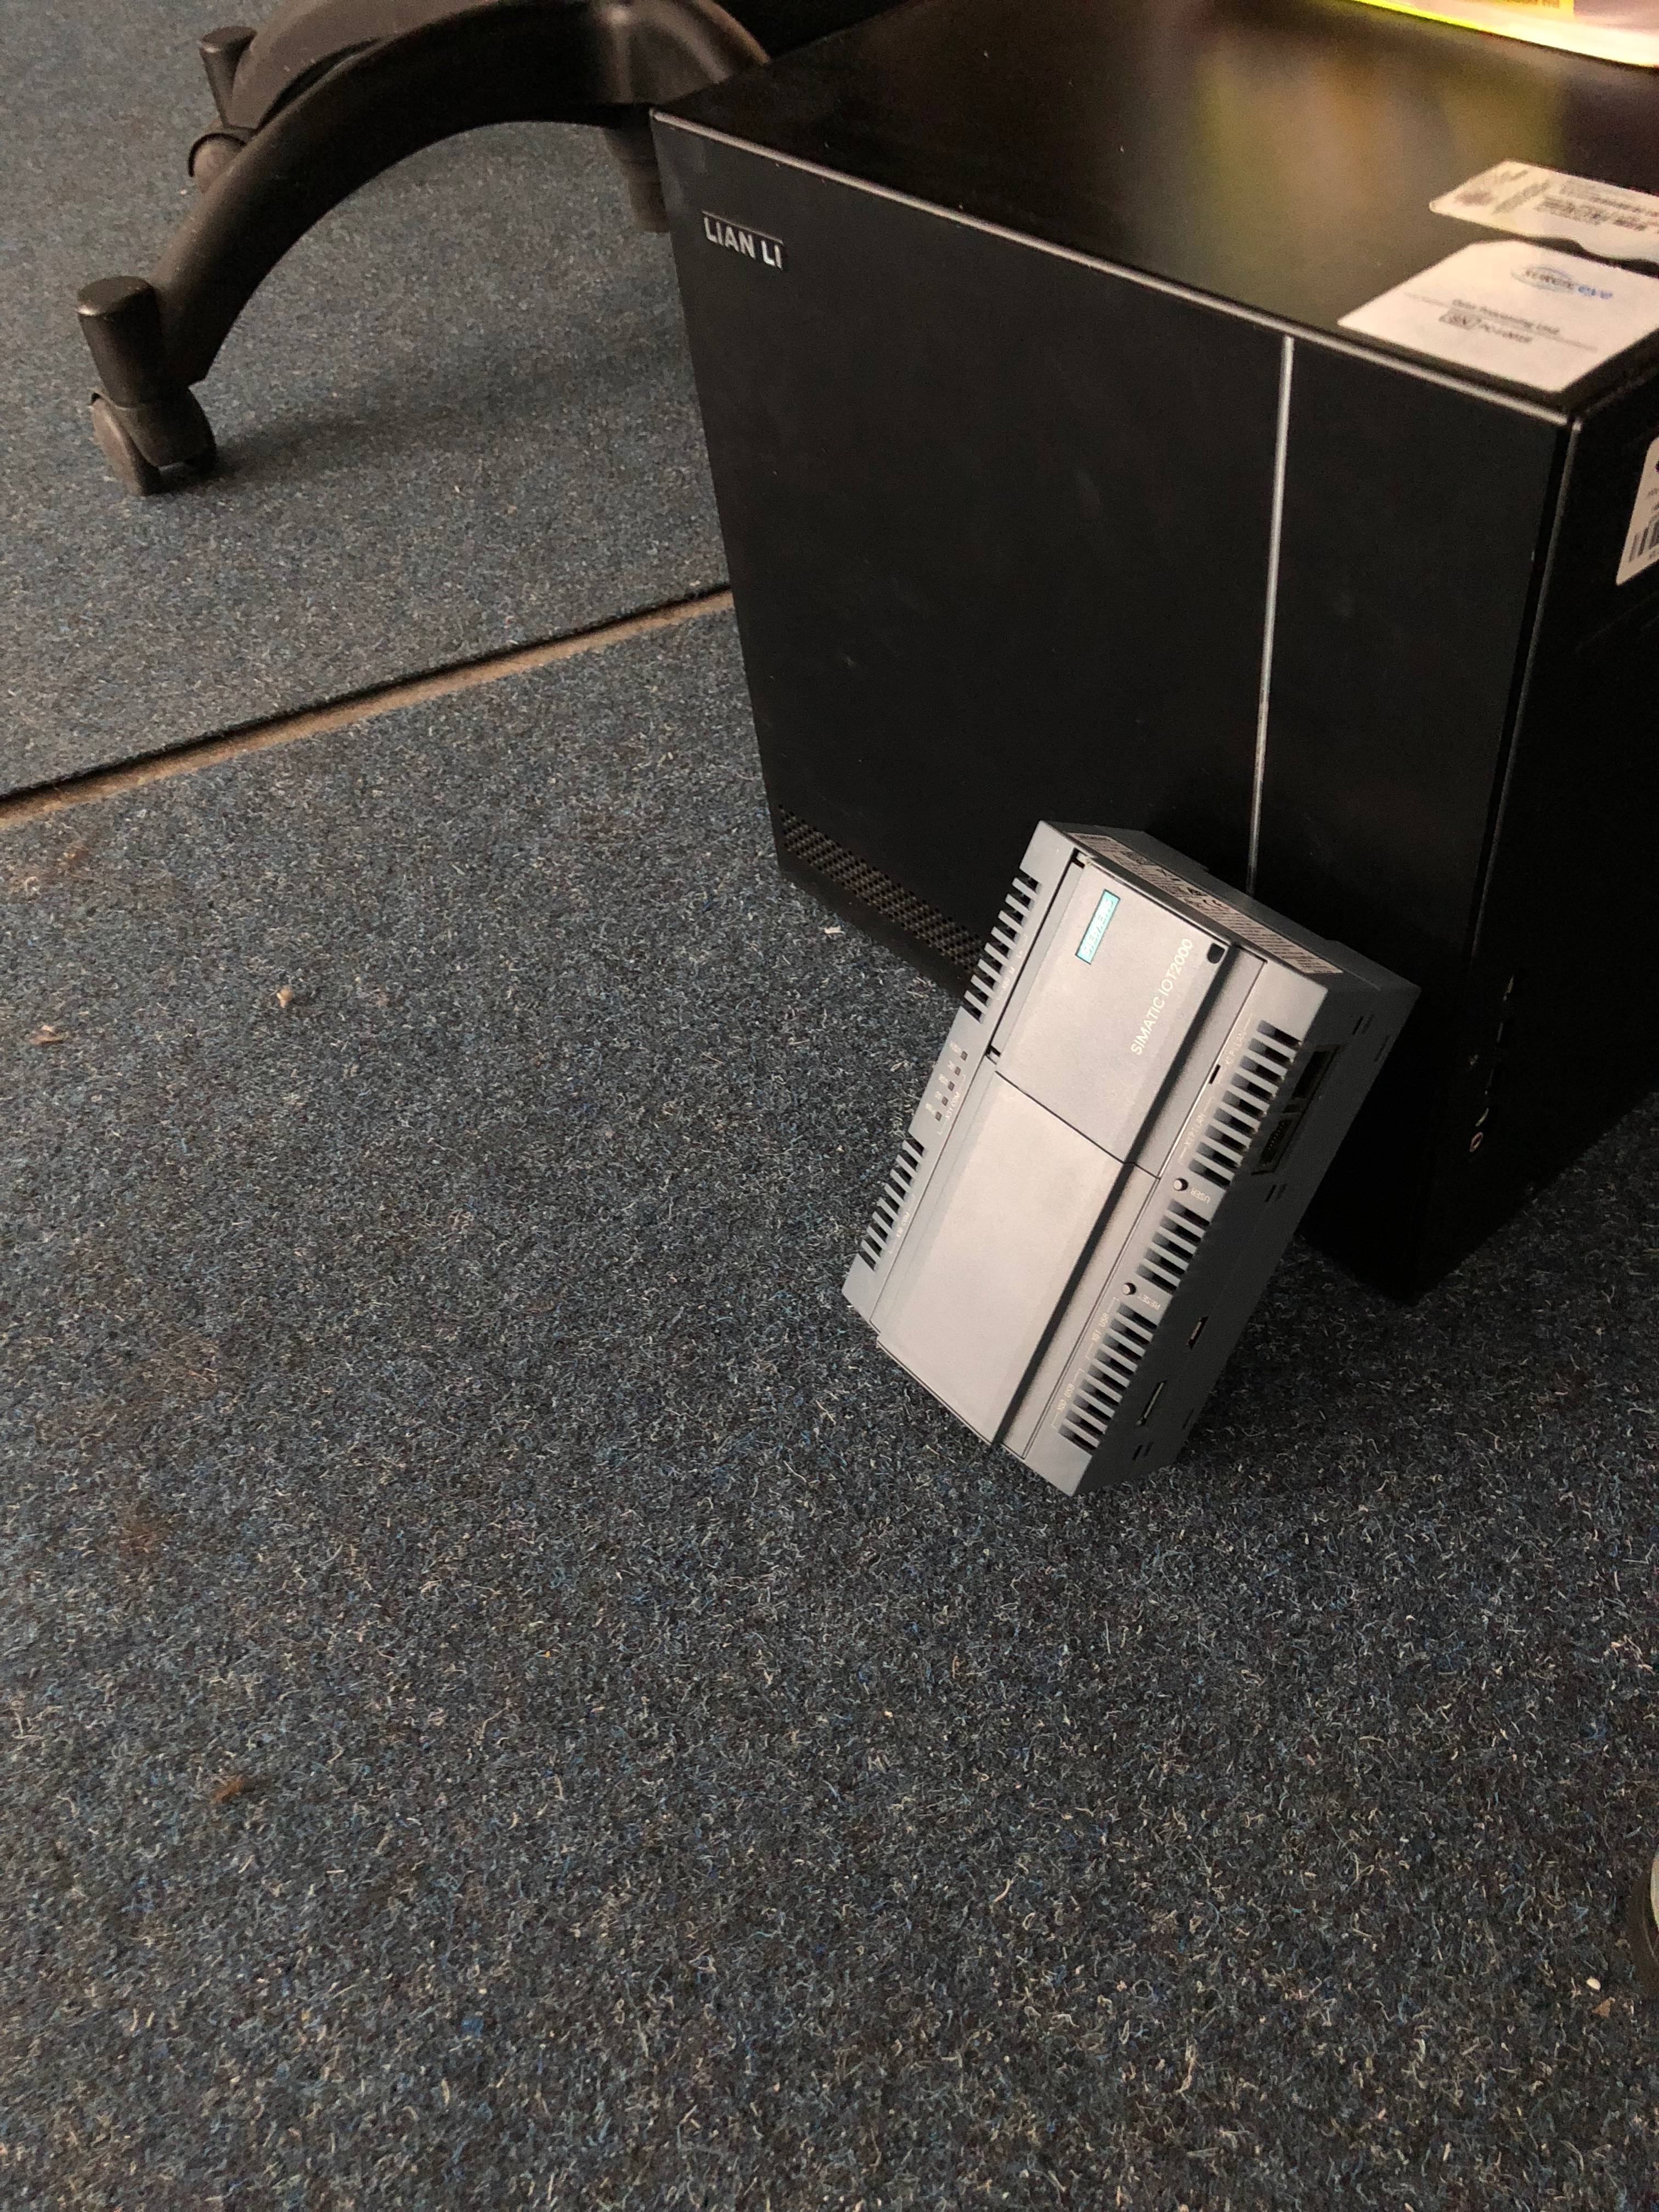device: (840, 820, 1422, 1498)
